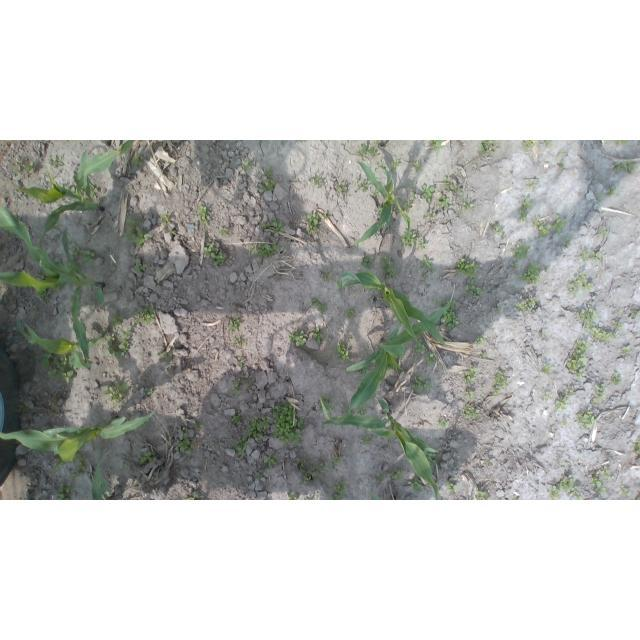Maize: (320, 285, 456, 426), (1, 204, 106, 372), (16, 140, 134, 250), (322, 393, 441, 500), (1, 411, 156, 476), (337, 271, 447, 348), (14, 312, 115, 370), (349, 160, 412, 247), (91, 449, 115, 500)
Weeds: (36, 350, 76, 385), (272, 405, 305, 447), (122, 218, 153, 248), (245, 415, 271, 440), (248, 239, 280, 259), (557, 475, 582, 500), (517, 261, 543, 285), (568, 272, 593, 296), (104, 381, 130, 404), (302, 461, 327, 484), (203, 243, 227, 265), (456, 258, 480, 280), (402, 228, 427, 249), (133, 304, 156, 325), (258, 168, 277, 193), (261, 216, 286, 234), (493, 372, 511, 397), (587, 327, 615, 343), (412, 372, 432, 394), (566, 357, 586, 378), (576, 309, 598, 328), (335, 341, 354, 363), (381, 255, 398, 279), (441, 310, 460, 331), (463, 280, 485, 298), (420, 257, 437, 280), (120, 327, 133, 357), (533, 217, 552, 237), (332, 476, 347, 500), (517, 198, 532, 222), (444, 176, 462, 196), (516, 297, 537, 314), (576, 410, 594, 429), (512, 241, 531, 259), (289, 329, 308, 347), (316, 395, 337, 411), (357, 140, 378, 156), (408, 474, 425, 493), (133, 258, 151, 275), (423, 451, 439, 470), (464, 364, 479, 384), (305, 212, 319, 233), (72, 453, 88, 471), (614, 161, 636, 174), (591, 384, 605, 404), (421, 184, 435, 204), (56, 483, 72, 500), (573, 340, 589, 357), (478, 140, 494, 157), (553, 215, 568, 233), (591, 477, 606, 495), (311, 299, 329, 314), (234, 436, 247, 456), (80, 250, 97, 265), (463, 404, 480, 419), (264, 453, 281, 468), (437, 194, 452, 211), (492, 224, 506, 241), (594, 465, 610, 479), (228, 316, 242, 332), (197, 205, 210, 222), (177, 439, 192, 453), (390, 469, 404, 484), (137, 451, 153, 464), (132, 151, 145, 167), (327, 456, 341, 470), (554, 396, 568, 410), (428, 140, 442, 154), (310, 175, 325, 188), (361, 255, 376, 268), (71, 245, 81, 264), (313, 327, 324, 344), (356, 179, 369, 193), (414, 340, 427, 354), (474, 488, 489, 500), (110, 315, 125, 327), (156, 351, 172, 362), (336, 180, 347, 196), (13, 156, 24, 172), (344, 308, 357, 321), (320, 268, 333, 281), (424, 352, 437, 365), (35, 288, 49, 300), (401, 199, 413, 213), (445, 481, 456, 496), (49, 156, 64, 167), (462, 200, 475, 212), (549, 486, 560, 500), (232, 378, 241, 395), (88, 183, 98, 198), (523, 141, 536, 152), (160, 211, 170, 225), (442, 299, 456, 309), (185, 492, 200, 501), (68, 471, 83, 480), (390, 158, 401, 170), (296, 456, 307, 468), (386, 362, 398, 373), (23, 162, 35, 173), (241, 160, 252, 172), (192, 419, 205, 429), (412, 160, 422, 173), (621, 486, 632, 497), (592, 252, 603, 263), (543, 363, 553, 375), (64, 185, 76, 195), (612, 373, 622, 385), (620, 344, 632, 354), (231, 412, 241, 424), (288, 492, 301, 501), (527, 180, 537, 191), (438, 416, 447, 428), (35, 274, 48, 282), (598, 227, 608, 237), (579, 251, 589, 261), (359, 435, 369, 445), (612, 319, 621, 330), (359, 406, 368, 417), (410, 184, 417, 197), (475, 336, 485, 345), (464, 390, 474, 399), (562, 235, 571, 245), (145, 387, 154, 397), (359, 368, 369, 377), (236, 357, 244, 368), (182, 427, 190, 438), (256, 470, 264, 481), (376, 161, 385, 170), (635, 438, 640, 453), (376, 473, 385, 481), (608, 186, 617, 194), (511, 262, 520, 270), (428, 211, 437, 219), (615, 141, 629, 146), (235, 335, 241, 346), (544, 393, 552, 401), (545, 140, 553, 148), (344, 408, 352, 416), (433, 297, 442, 304), (631, 309, 640, 316), (559, 161, 565, 171), (566, 388, 573, 396), (220, 227, 228, 234), (480, 352, 488, 359), (402, 292, 409, 299), (322, 212, 329, 219), (369, 364, 375, 372), (378, 205, 383, 214), (373, 189, 379, 196), (170, 229, 177, 235), (595, 195, 601, 202), (494, 307, 501, 313), (617, 310, 623, 316), (558, 150, 564, 156), (541, 333, 548, 338), (58, 184, 64, 189), (64, 140, 70, 144), (591, 497, 598, 500), (496, 141, 503, 144), (562, 421, 567, 425), (487, 461, 491, 466), (248, 384, 253, 388), (308, 497, 313, 500), (512, 497, 517, 500), (637, 496, 640, 500), (547, 269, 550, 272)
